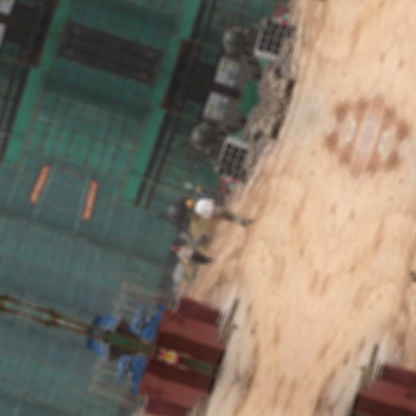red: (169, 244, 177, 252)
yellow: (185, 197, 195, 207), (196, 185, 203, 192)
